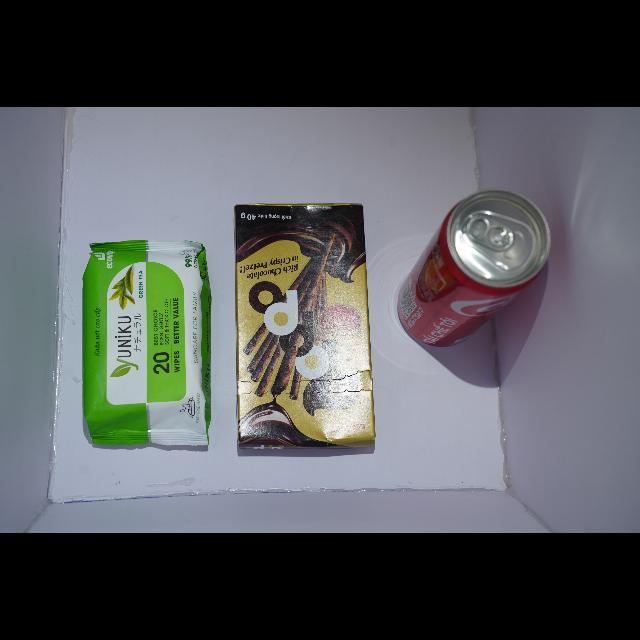banh_toppo_socola: (235, 204, 375, 448)
coca_cola: (397, 190, 550, 347)
khan_giay: (83, 241, 210, 446)
